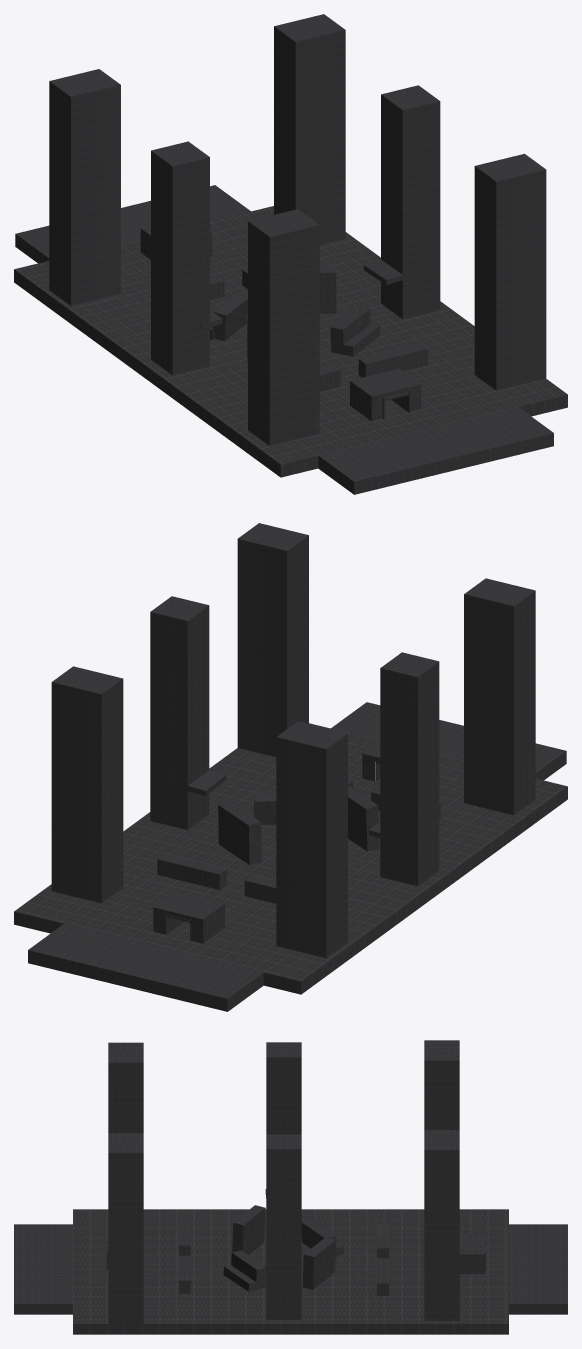
The model's file is arena_export.glb.
The picture shows the model from 3 angles, top to bottom: view 1: azimuth 30°, elevation 25°; view 2: azimuth 150°, elevation 25°; view 3: azimuth 270°, elevation 25°; orthographic projection. The views are drawn at different scales.
Parts seen in each view (by area): view 1: Col_Mesh0; view 2: Col_Mesh0; view 3: Col_Mesh0.
Part boxes in pixels (left/top/right/bottom): Col_Mesh0: left=14, top=14, right=567, bottom=494; Col_Mesh0: left=14, top=523, right=567, bottom=1011; Col_Mesh0: left=14, top=1040, right=567, bottom=1334.
Bounding box in the file's own units: 23 × 17 × 47.
2 materials, 1 textured.
